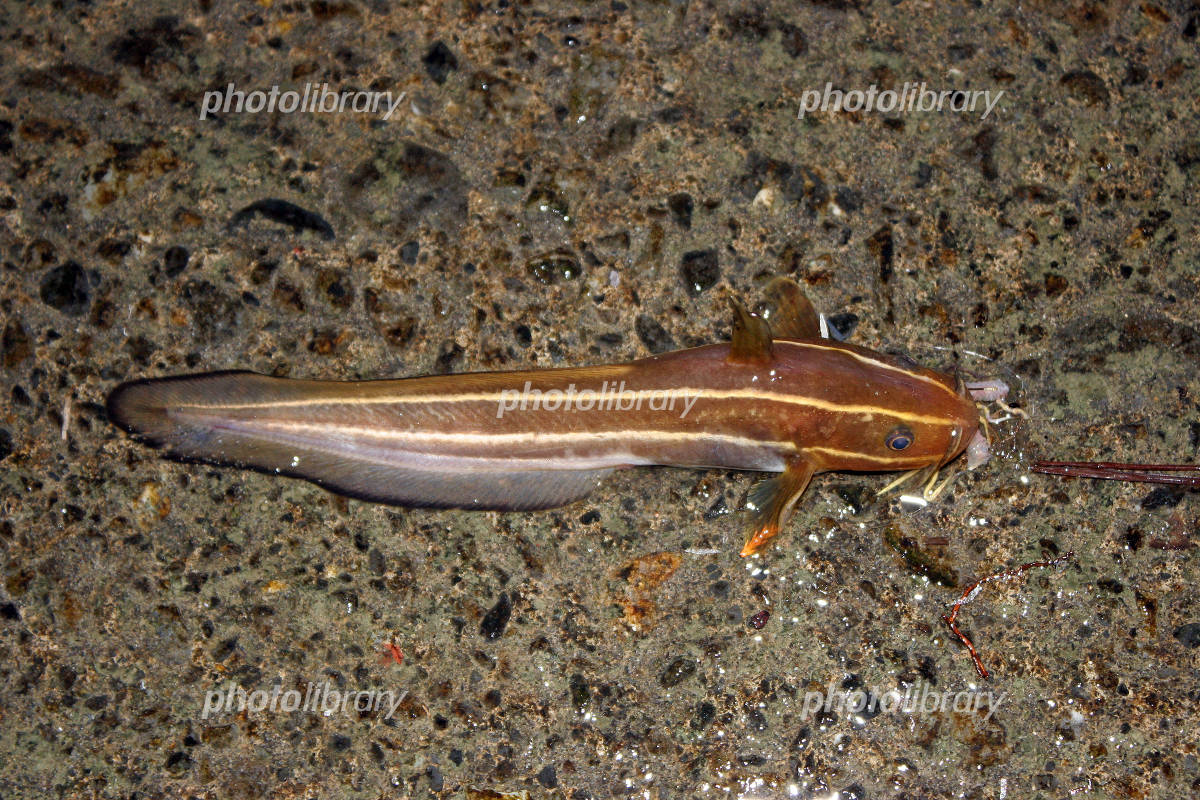gonzui: (76, 280, 1051, 563)
